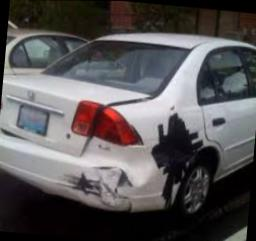Bumper: (0, 134, 157, 212)
Dickey: (0, 72, 148, 159)
Fender: (116, 78, 213, 215)
